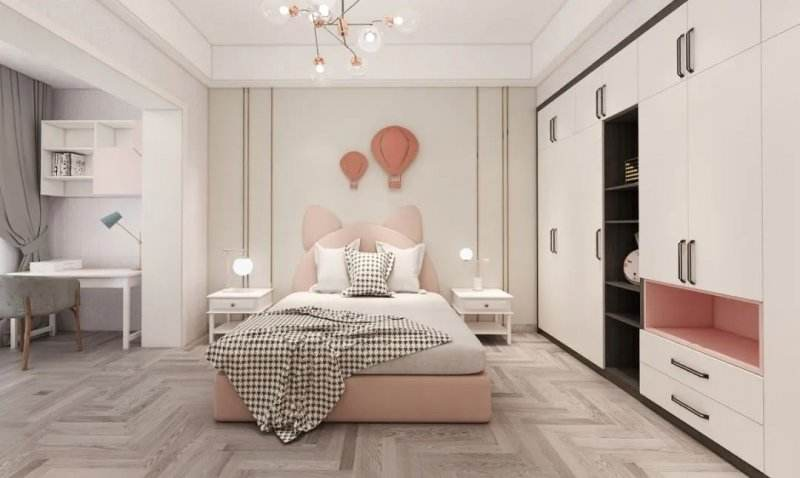床: (212, 284, 494, 438)
枕头: (305, 242, 426, 295)
灯: (277, 2, 404, 75), (95, 206, 142, 253), (458, 245, 487, 291), (229, 252, 254, 291)
